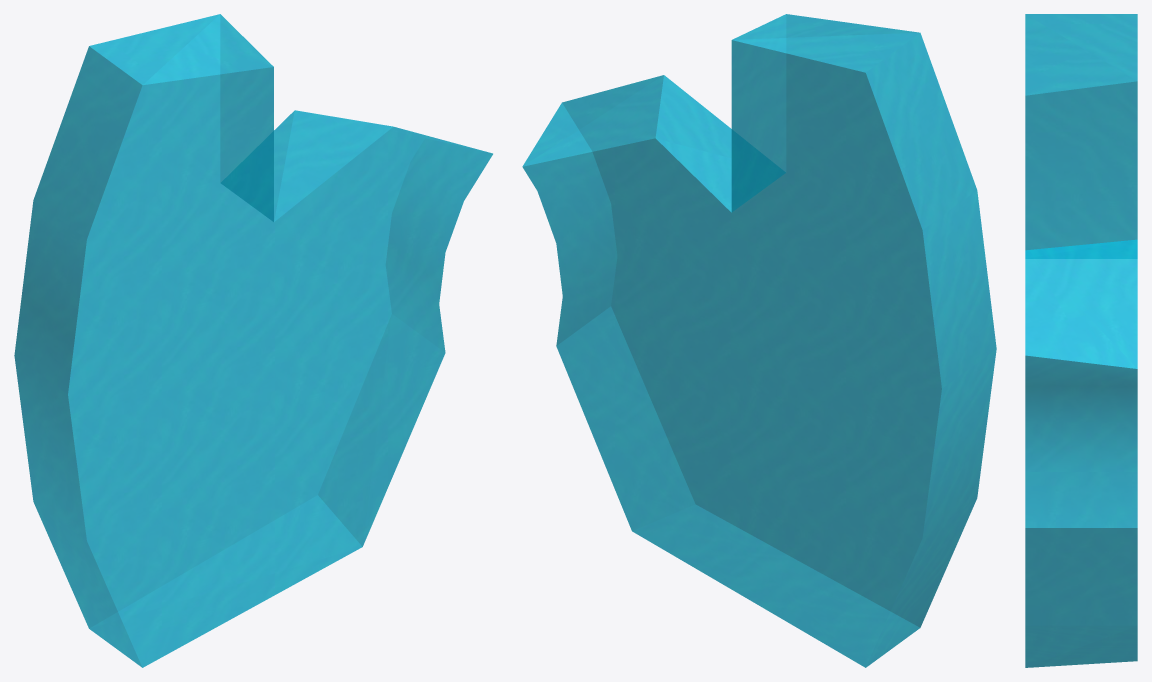
The model's file is GlassPart_04.fbx.
3 renders of one model, left to right at view 1: azimuth 30°, elevation 25°; view 2: azimuth 150°, elevation 25°; view 3: azimuth 270°, elevation 25°, orthographic. The views are drawn at different scales.
Visible parts, largest first — view 1: Model; view 2: Model; view 3: Model.
Boxes of the visible parts, x1,y1,x2,y2 form: Model: (14,14,492,667); Model: (522,14,996,667); Model: (1025,14,1137,667).
Bounding box in the file's own units: 2.29 × 3 × 0.5.
